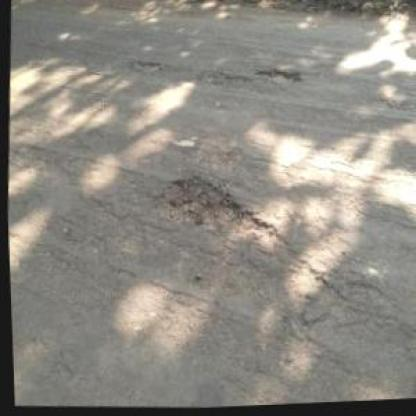pothole: (147, 172, 283, 252), (252, 67, 304, 90), (124, 58, 166, 76)
